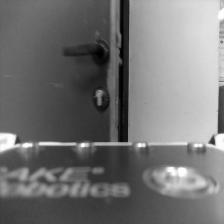Door Handle: (59, 36, 109, 71)
Lock: (92, 86, 110, 116)
